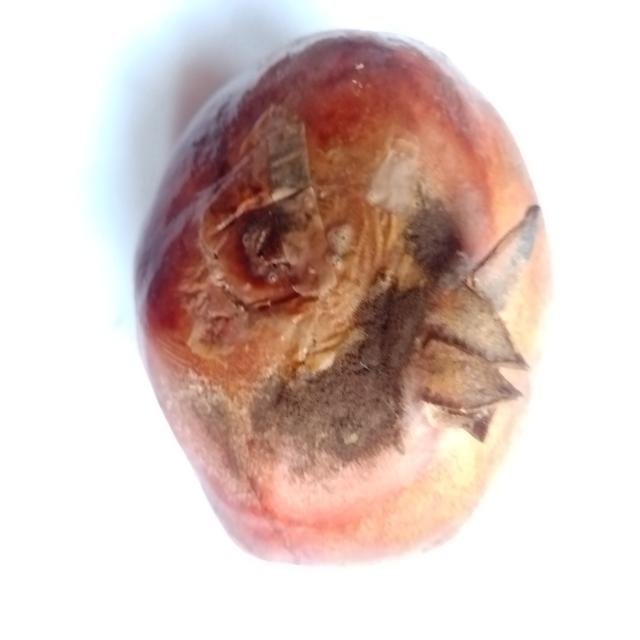Rotten: (128, 23, 555, 564)
